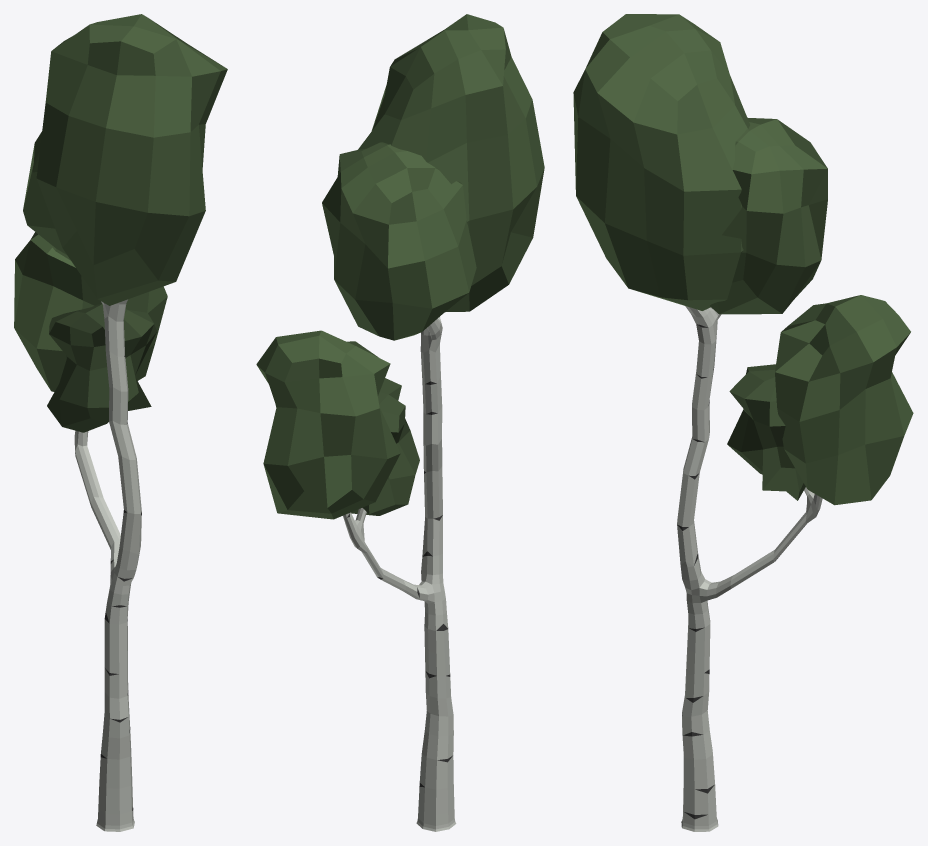
Rendered from BirchTree_5.gltf.
3 views of the same model, side by side, from view 1: azimuth 30°, elevation 25°; view 2: azimuth 150°, elevation 25°; view 3: azimuth 270°, elevation 25° (orthographic). The views are drawn at different scales.
Parts seen in each view (by area): view 1: BirchTree_5; view 2: BirchTree_5; view 3: BirchTree_5.
Boxes of the visible parts, x1=… form: BirchTree_5: x1=14, y1=14, x2=227, y2=831; BirchTree_5: x1=256, y1=14, x2=544, y2=831; BirchTree_5: x1=573, y1=14, x2=913, y2=831.
Size of the model in its own units: 1.19 by 5.01 by 1.93.
